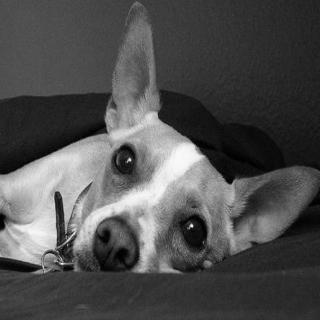dog: (82, 7, 320, 299)
nose: (93, 210, 141, 278)
